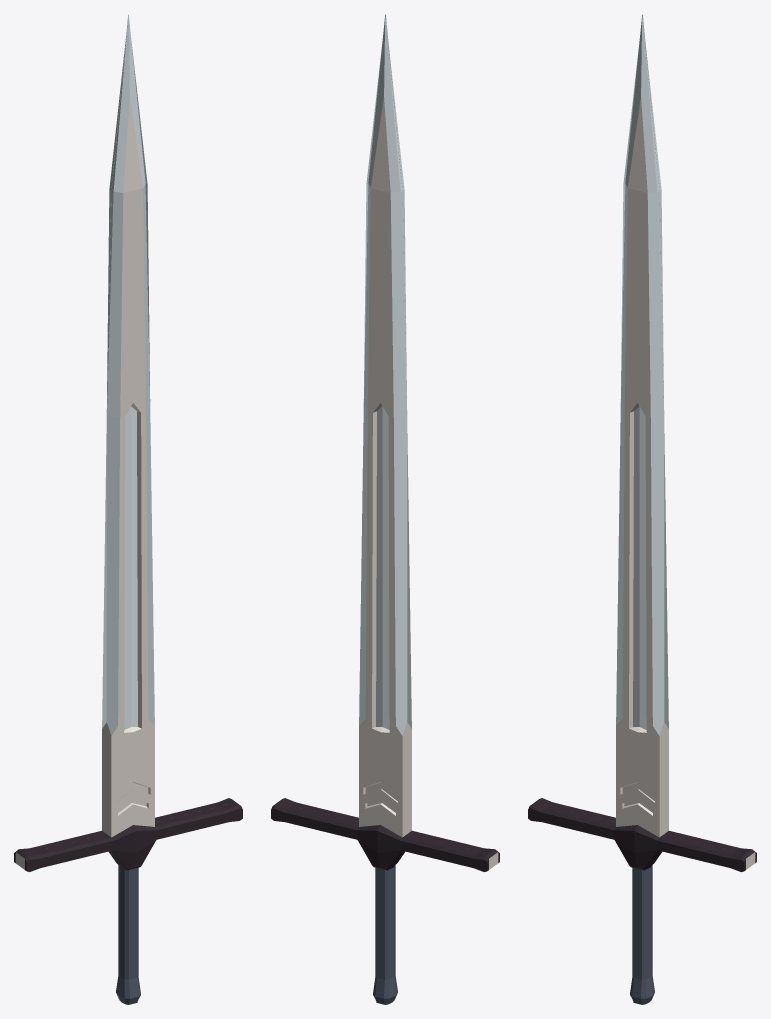
The model's file is shield_sw.fbx.
The picture shows the model from 3 angles, left to right: view 1: azimuth 30°, elevation 25°; view 2: azimuth 150°, elevation 25°; view 3: azimuth 330°, elevation 25°; orthographic projection.
Visible parts, largest first — view 1: Sword.002; view 2: Sword.002; view 3: Sword.002.
Boxes of the visible parts, <box> form: Sword.002: <box>14,14,242,1004</box>; Sword.002: <box>271,14,499,1004</box>; Sword.002: <box>528,14,756,1004</box>.
Bounding box in the file's own units: 206 × 897 × 25.92.
